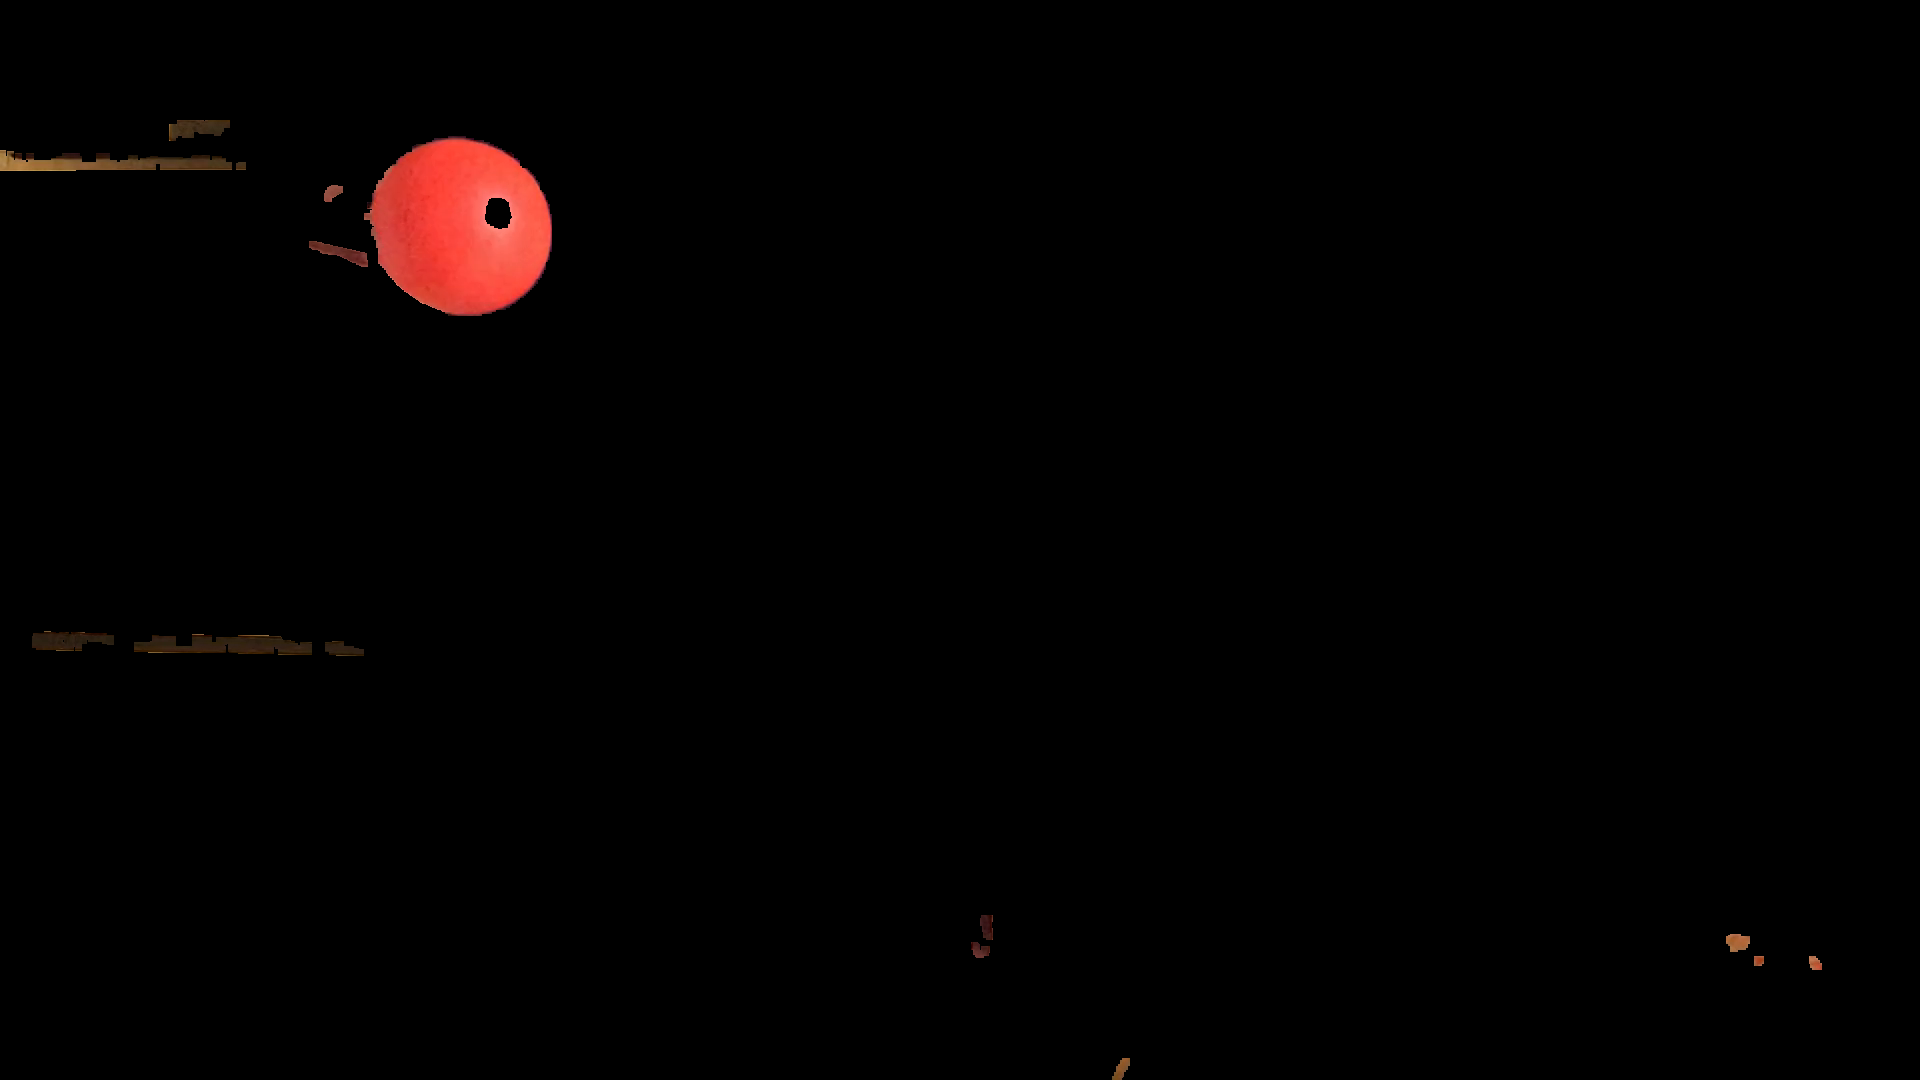Ball: (371, 138, 553, 314)
